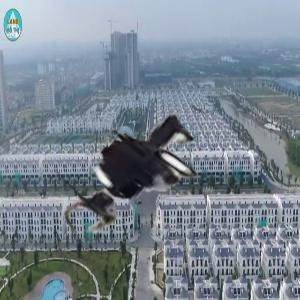drone: (47, 78, 245, 276)
